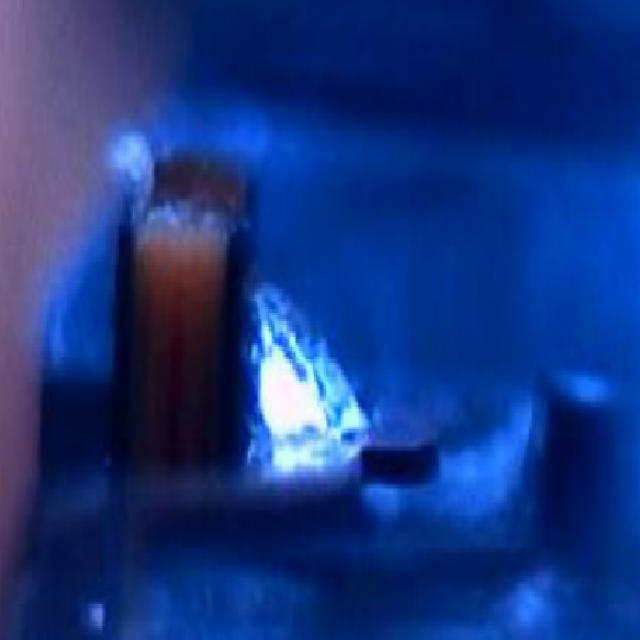Good: (235, 250, 381, 493)
